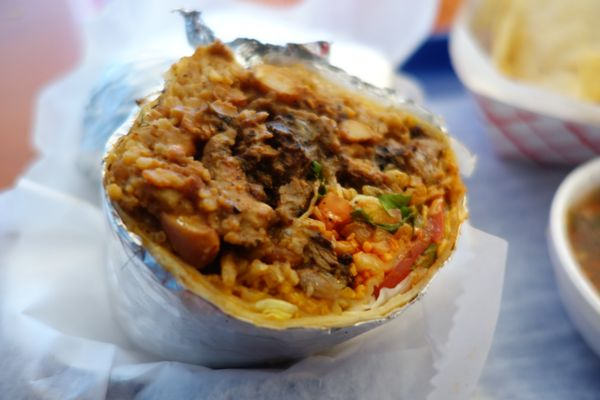soup: (100, 38, 471, 332)
sushi: (99, 31, 468, 370), (446, 0, 600, 168), (545, 152, 600, 362)
